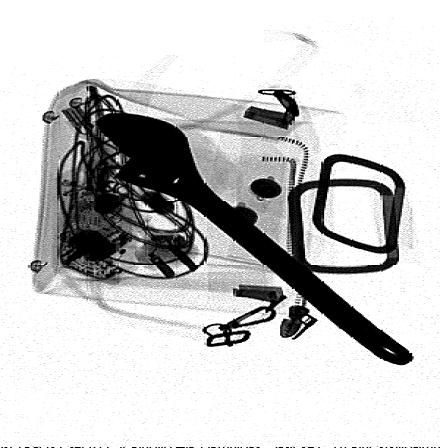Wrench: (89, 109, 417, 368)
